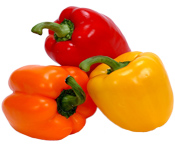capsicum: (79, 47, 174, 135), (2, 66, 95, 142), (29, 6, 131, 73)
